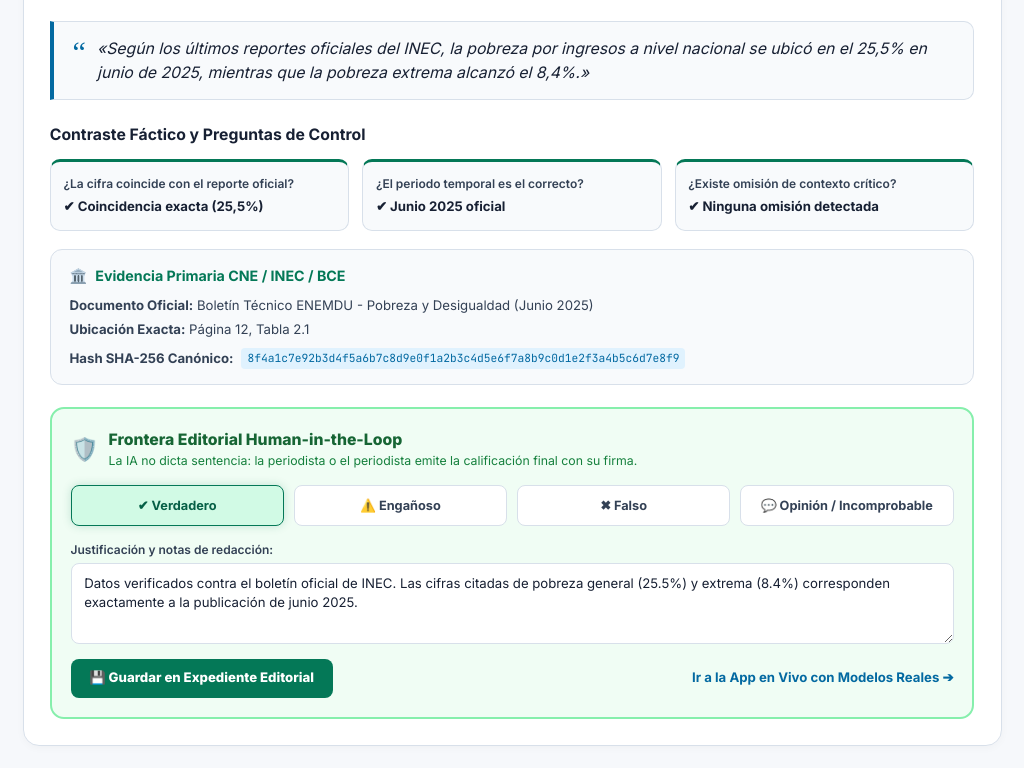
Test: PrototypePreview Component › updates verdict in human-in-the-loop decision box and displays toast
(page scrolled)
Click the button with test id "vbtn-false": coordinates (624, 506) x1=517 y1=485 x2=730 y2=526
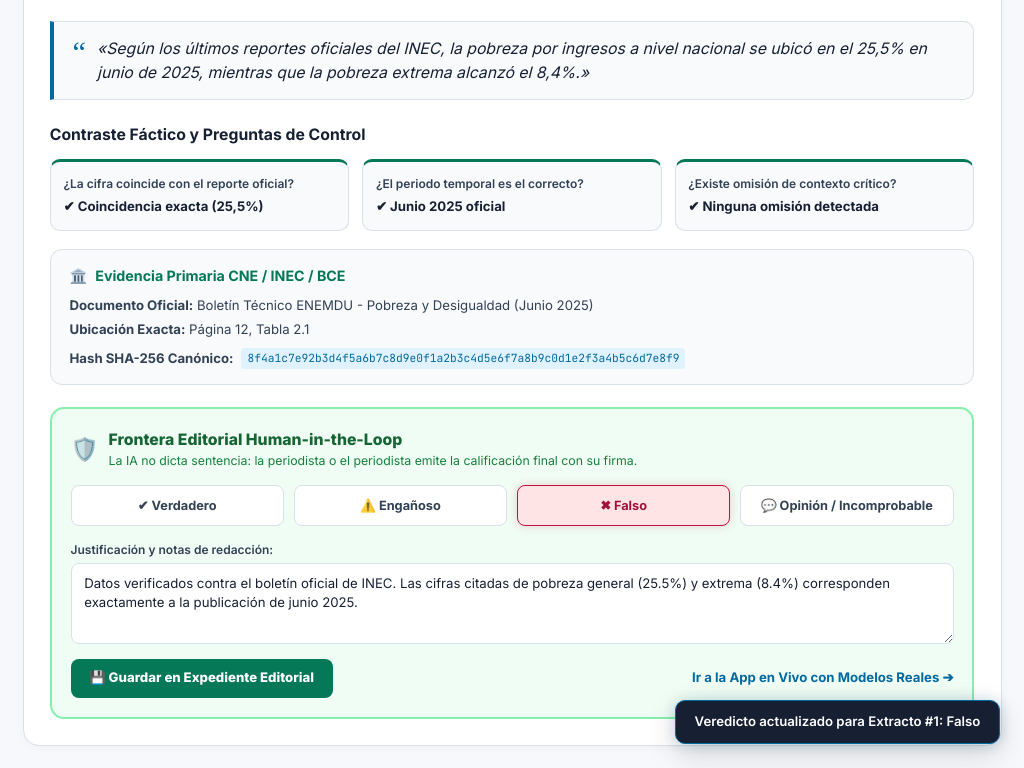
Check: the message "Veredicto actualizado para Extracto #1: Falso" is shown, box x1=675 y1=700 x2=1000 y2=744
Check: the message with test id "proto-toast" reads "Veredicto actualizado para Extracto #1: Falso", box x1=695 y1=713 x2=980 y2=729
